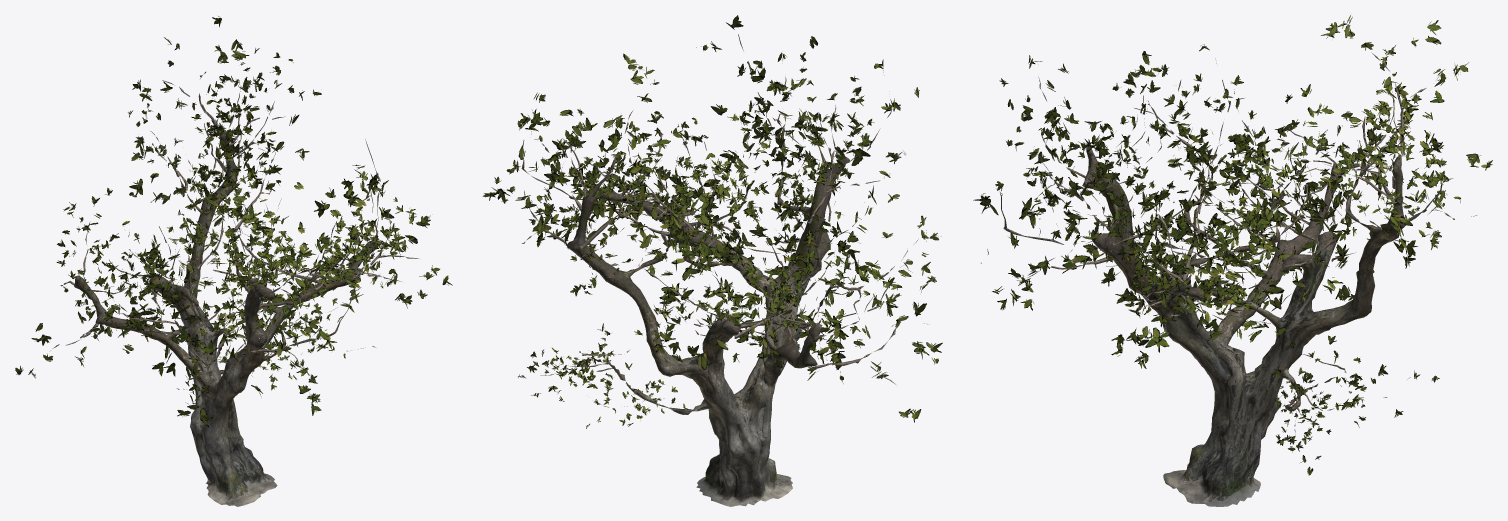
The model's file is ilha1.glb.
3 views of the same model, side by side, from view 1: azimuth 30°, elevation 25°; view 2: azimuth 150°, elevation 25°; view 3: azimuth 270°, elevation 25° (orthographic). The views are drawn at different scales.
Parts seen in each view (by area): view 1: ilha1; view 2: ilha1; view 3: ilha1.
Part boxes in pixels (x1,y1,x2,y2): ilha1: [15, 16, 452, 506]; ilha1: [482, 15, 942, 506]; ilha1: [973, 15, 1492, 506].
Size of the model in its own units: 4.69 by 4.86 by 4.59.
3 materials, 3 textured.
